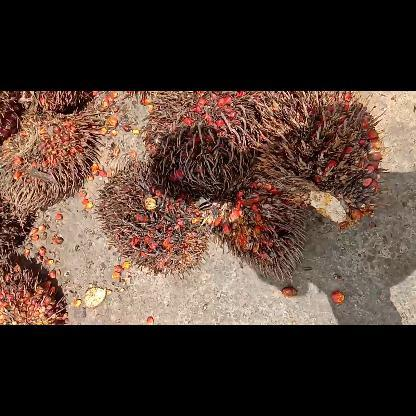Terlalu masak: (246, 91, 388, 233), (137, 90, 277, 202), (92, 155, 209, 279), (201, 173, 313, 285)
